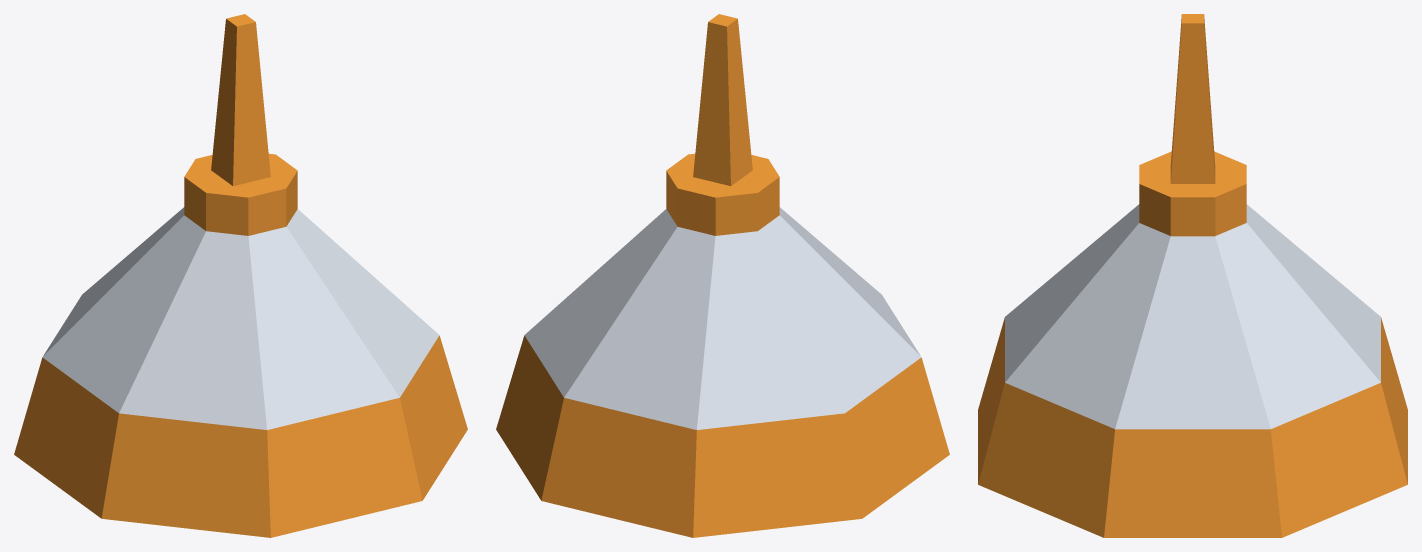
Rendered from rocket_topB.glb.
3 views of the same model, side by side, from view 1: azimuth 30°, elevation 25°; view 2: azimuth 150°, elevation 25°; view 3: azimuth 270°, elevation 25° (orthographic).
Visible parts, largest first — view 1: rocket_topB; view 2: rocket_topB; view 3: rocket_topB.
Boxes of the visible parts, x1=… form: rocket_topB: x1=14, y1=14, x2=467, y2=537; rocket_topB: x1=496, y1=14, x2=949, y2=537; rocket_topB: x1=978, y1=14, x2=1407, y2=537.
Size of the model in its own units: 1 by 1.1 by 1.
